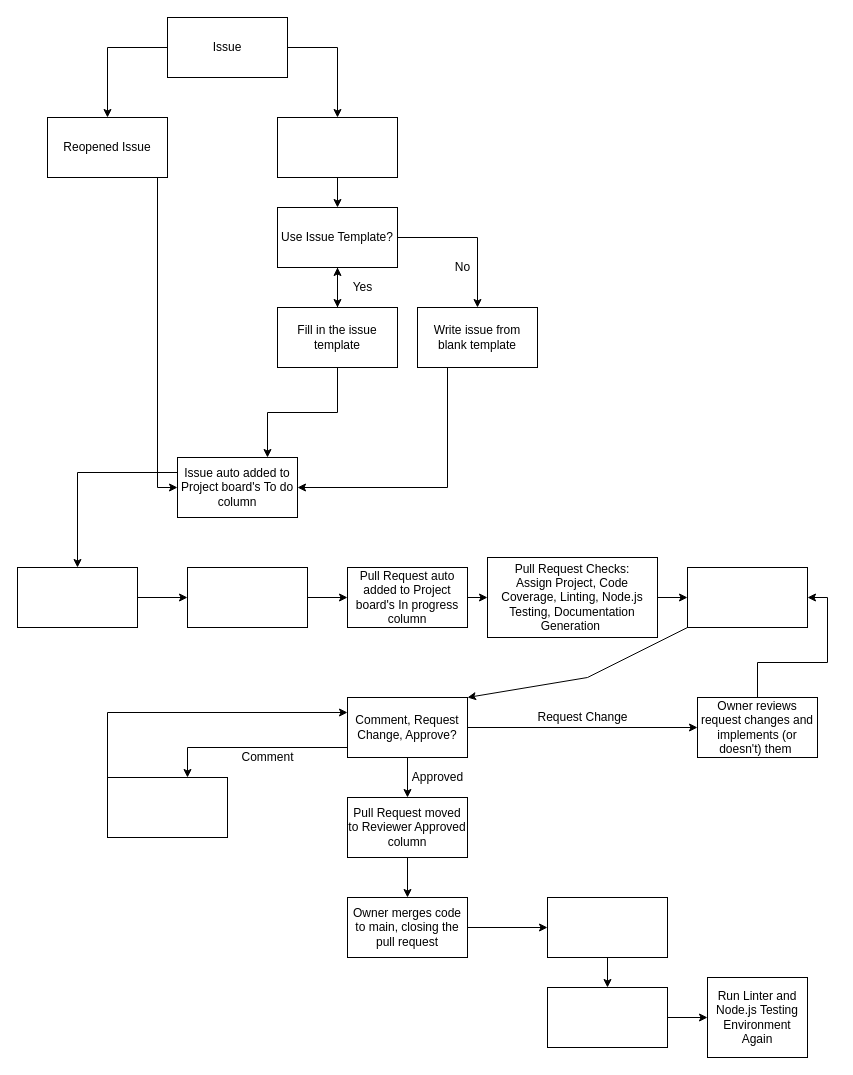
This 853x1075 diagram has some shape labels left out. The box of each missing label's shape, as (x1, y1, x2, y2) in pixels:
Comment added to pull request, no changes in status of issue/pull request: (106, 776, 228, 838)
Create Pull Request and Link to respective issue: (186, 566, 308, 628)
GitHub Actions trigger on push / pull request: (546, 986, 668, 1048)
New Issue: (276, 116, 398, 178)
Pull Request and its related issue are moved to Done column: (546, 896, 668, 958)
Pull Request reviewed by a member of another team: (686, 566, 808, 628)
Work on resolving the issue: (16, 566, 138, 628)
